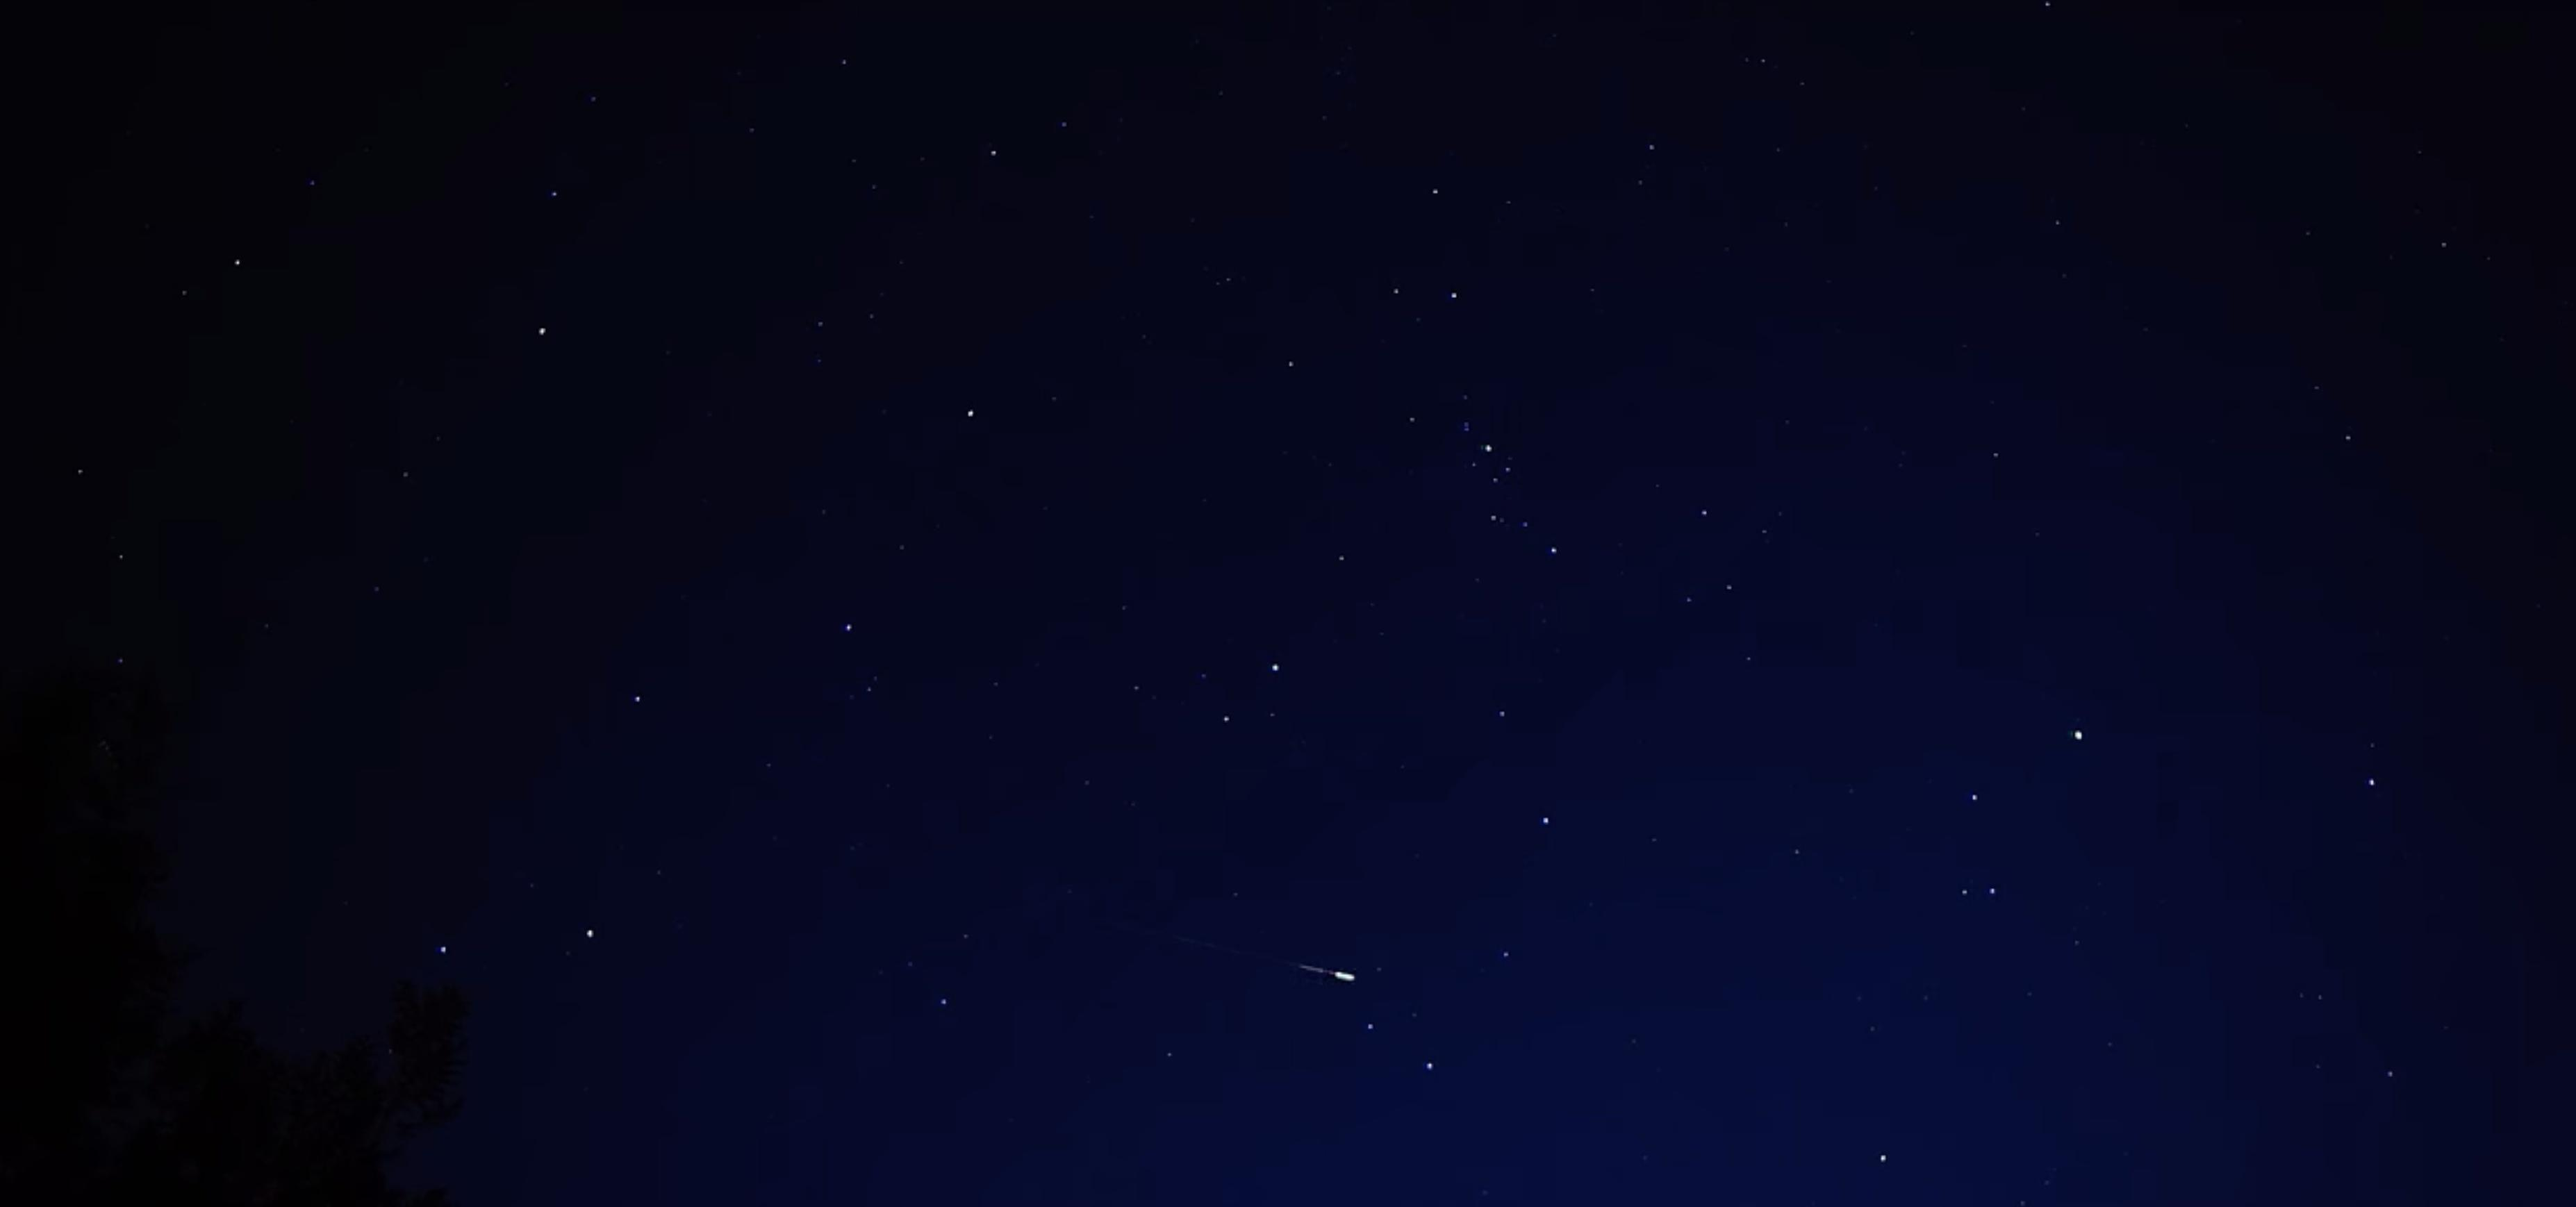meteorite: (1127, 918, 1400, 998)
